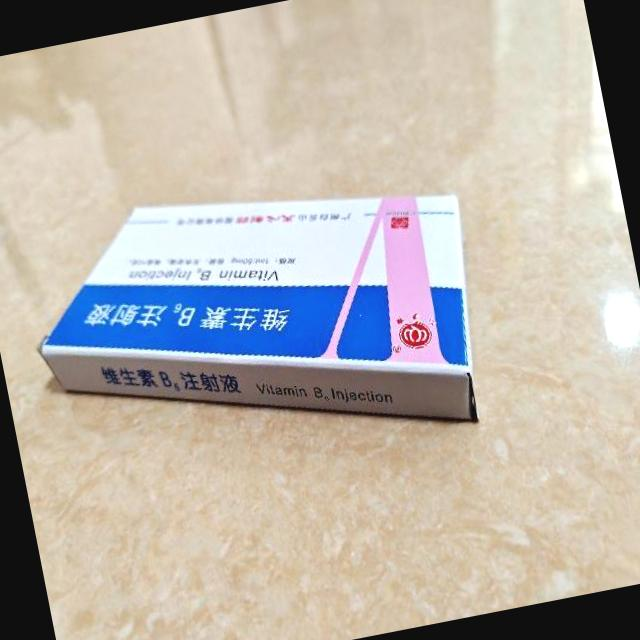box: (17, 146, 500, 502)
